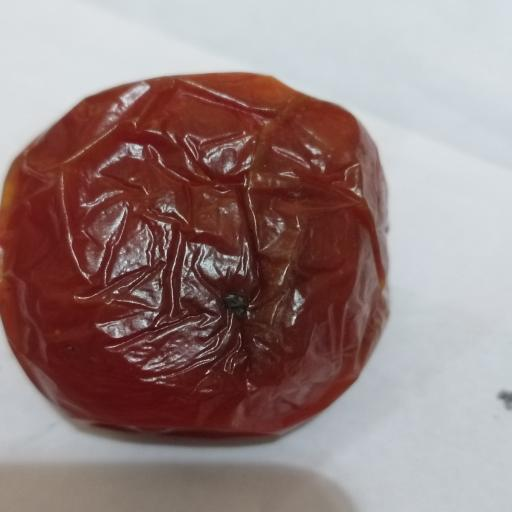spoiled: (0, 73, 387, 436)
